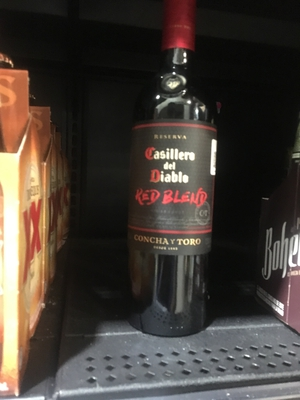casillero del diablo red blend: (112, 29, 235, 344)
